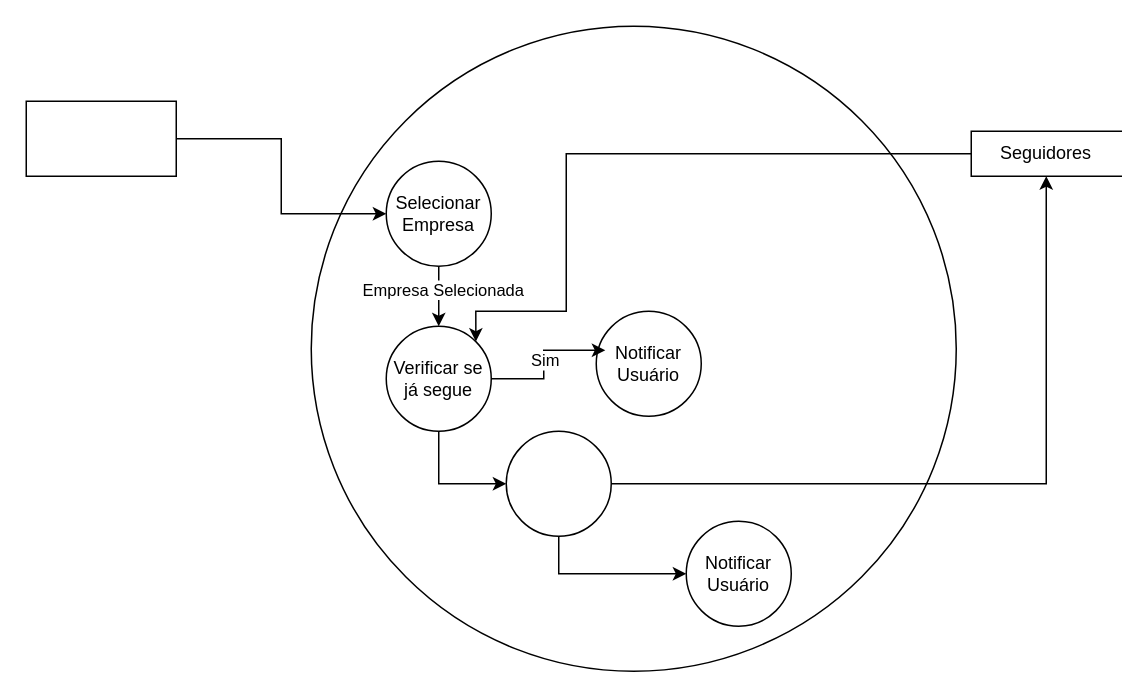
This 1148x698 diagram has some shape labels left out. Here are the shapes that lost their labels. From the top down, the centre of each, then its label:
the point at 100,138: Usuário
the point at 558,483: Registrar Seguidor no BD
